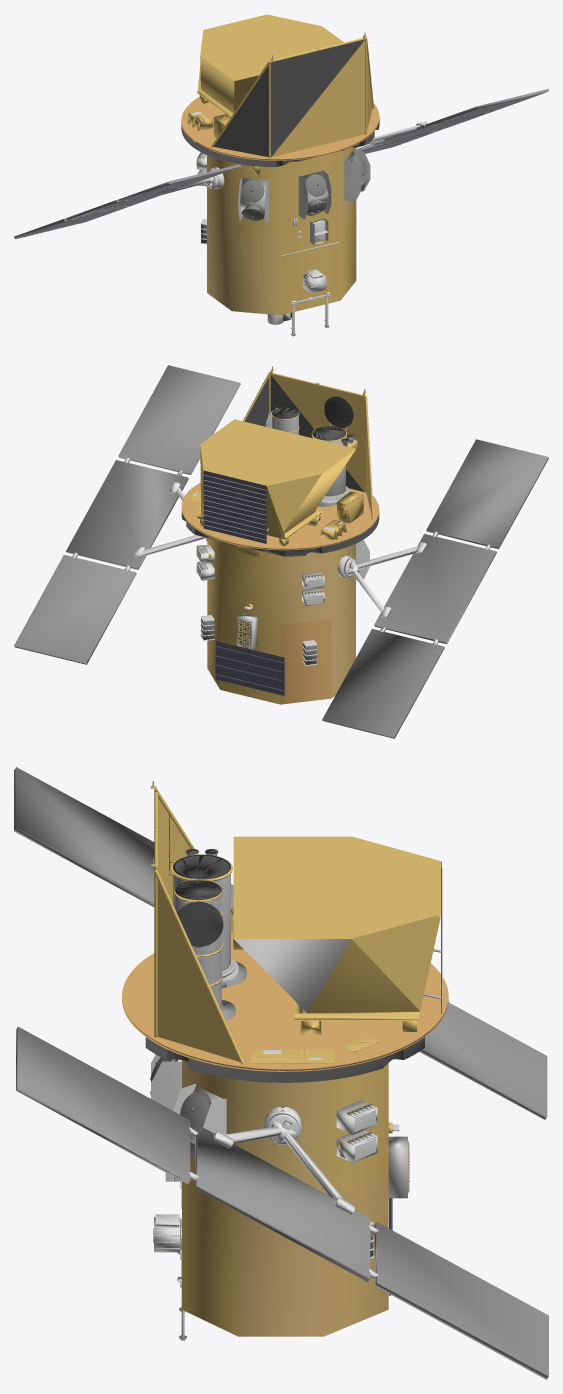
File: swift.glb
3 views of the same model, one above another, from view 1: azimuth 30°, elevation 25°; view 2: azimuth 150°, elevation 25°; view 3: azimuth 270°, elevation 25° (orthographic). The views are drawn at different scales.
Parts seen in each view (by area): view 1: Fake; view 2: Fake; view 3: Fake.
Boxes of the visible parts, <box> form: Fake: <box>14,14,548,336</box>; Fake: <box>14,365,548,738</box>; Fake: <box>14,767,548,1379</box>.
Bounding box in the file's own units: 5.6 × 4.13 × 3.96.
